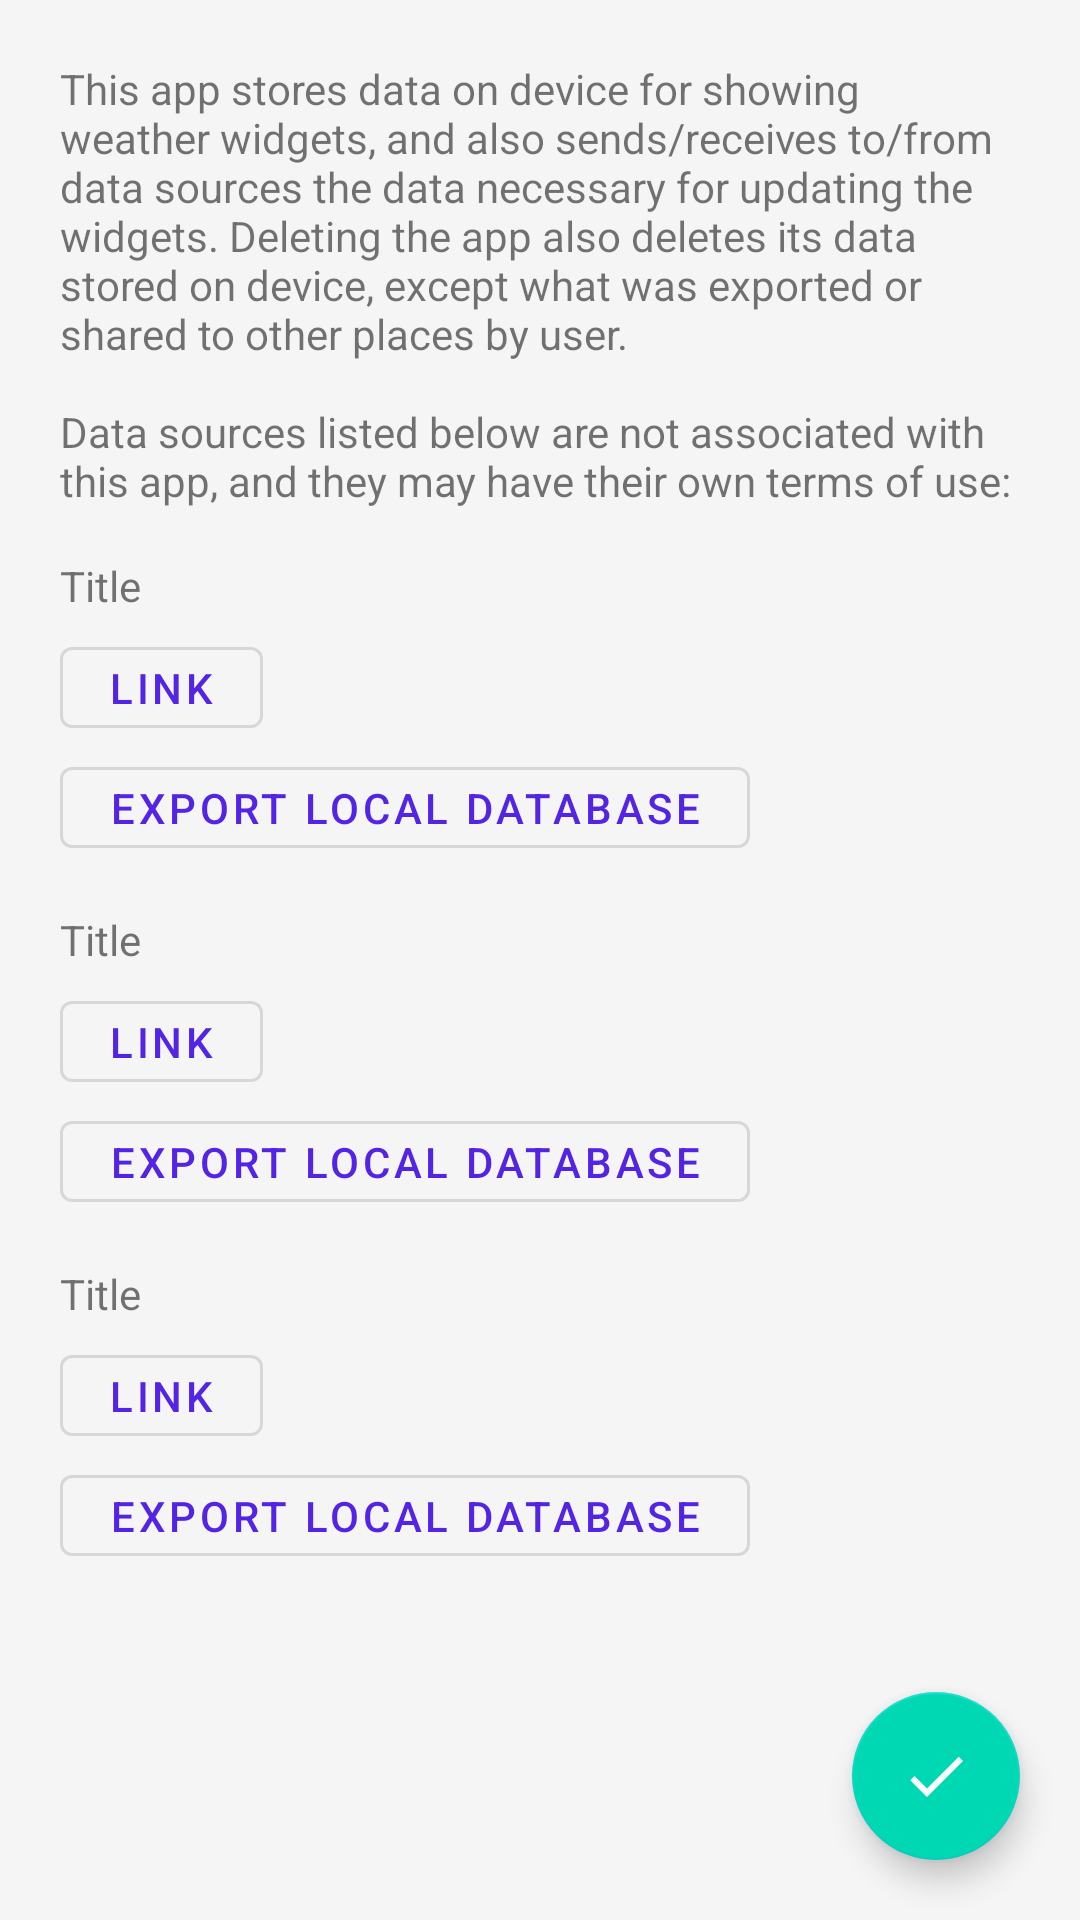

Screen size 1080 x 1920. Icon name, then its box in pixels as (x1, y1, x2, y2):
check: (852, 1692, 1020, 1860)
